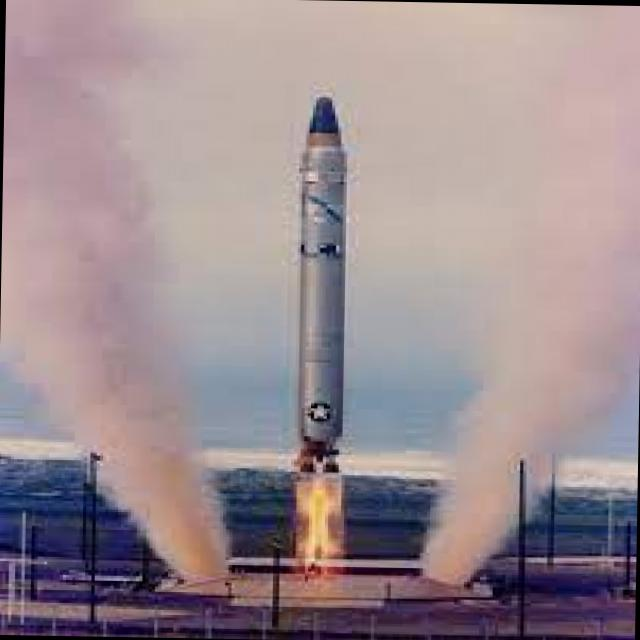rocket: (284, 89, 361, 483)
